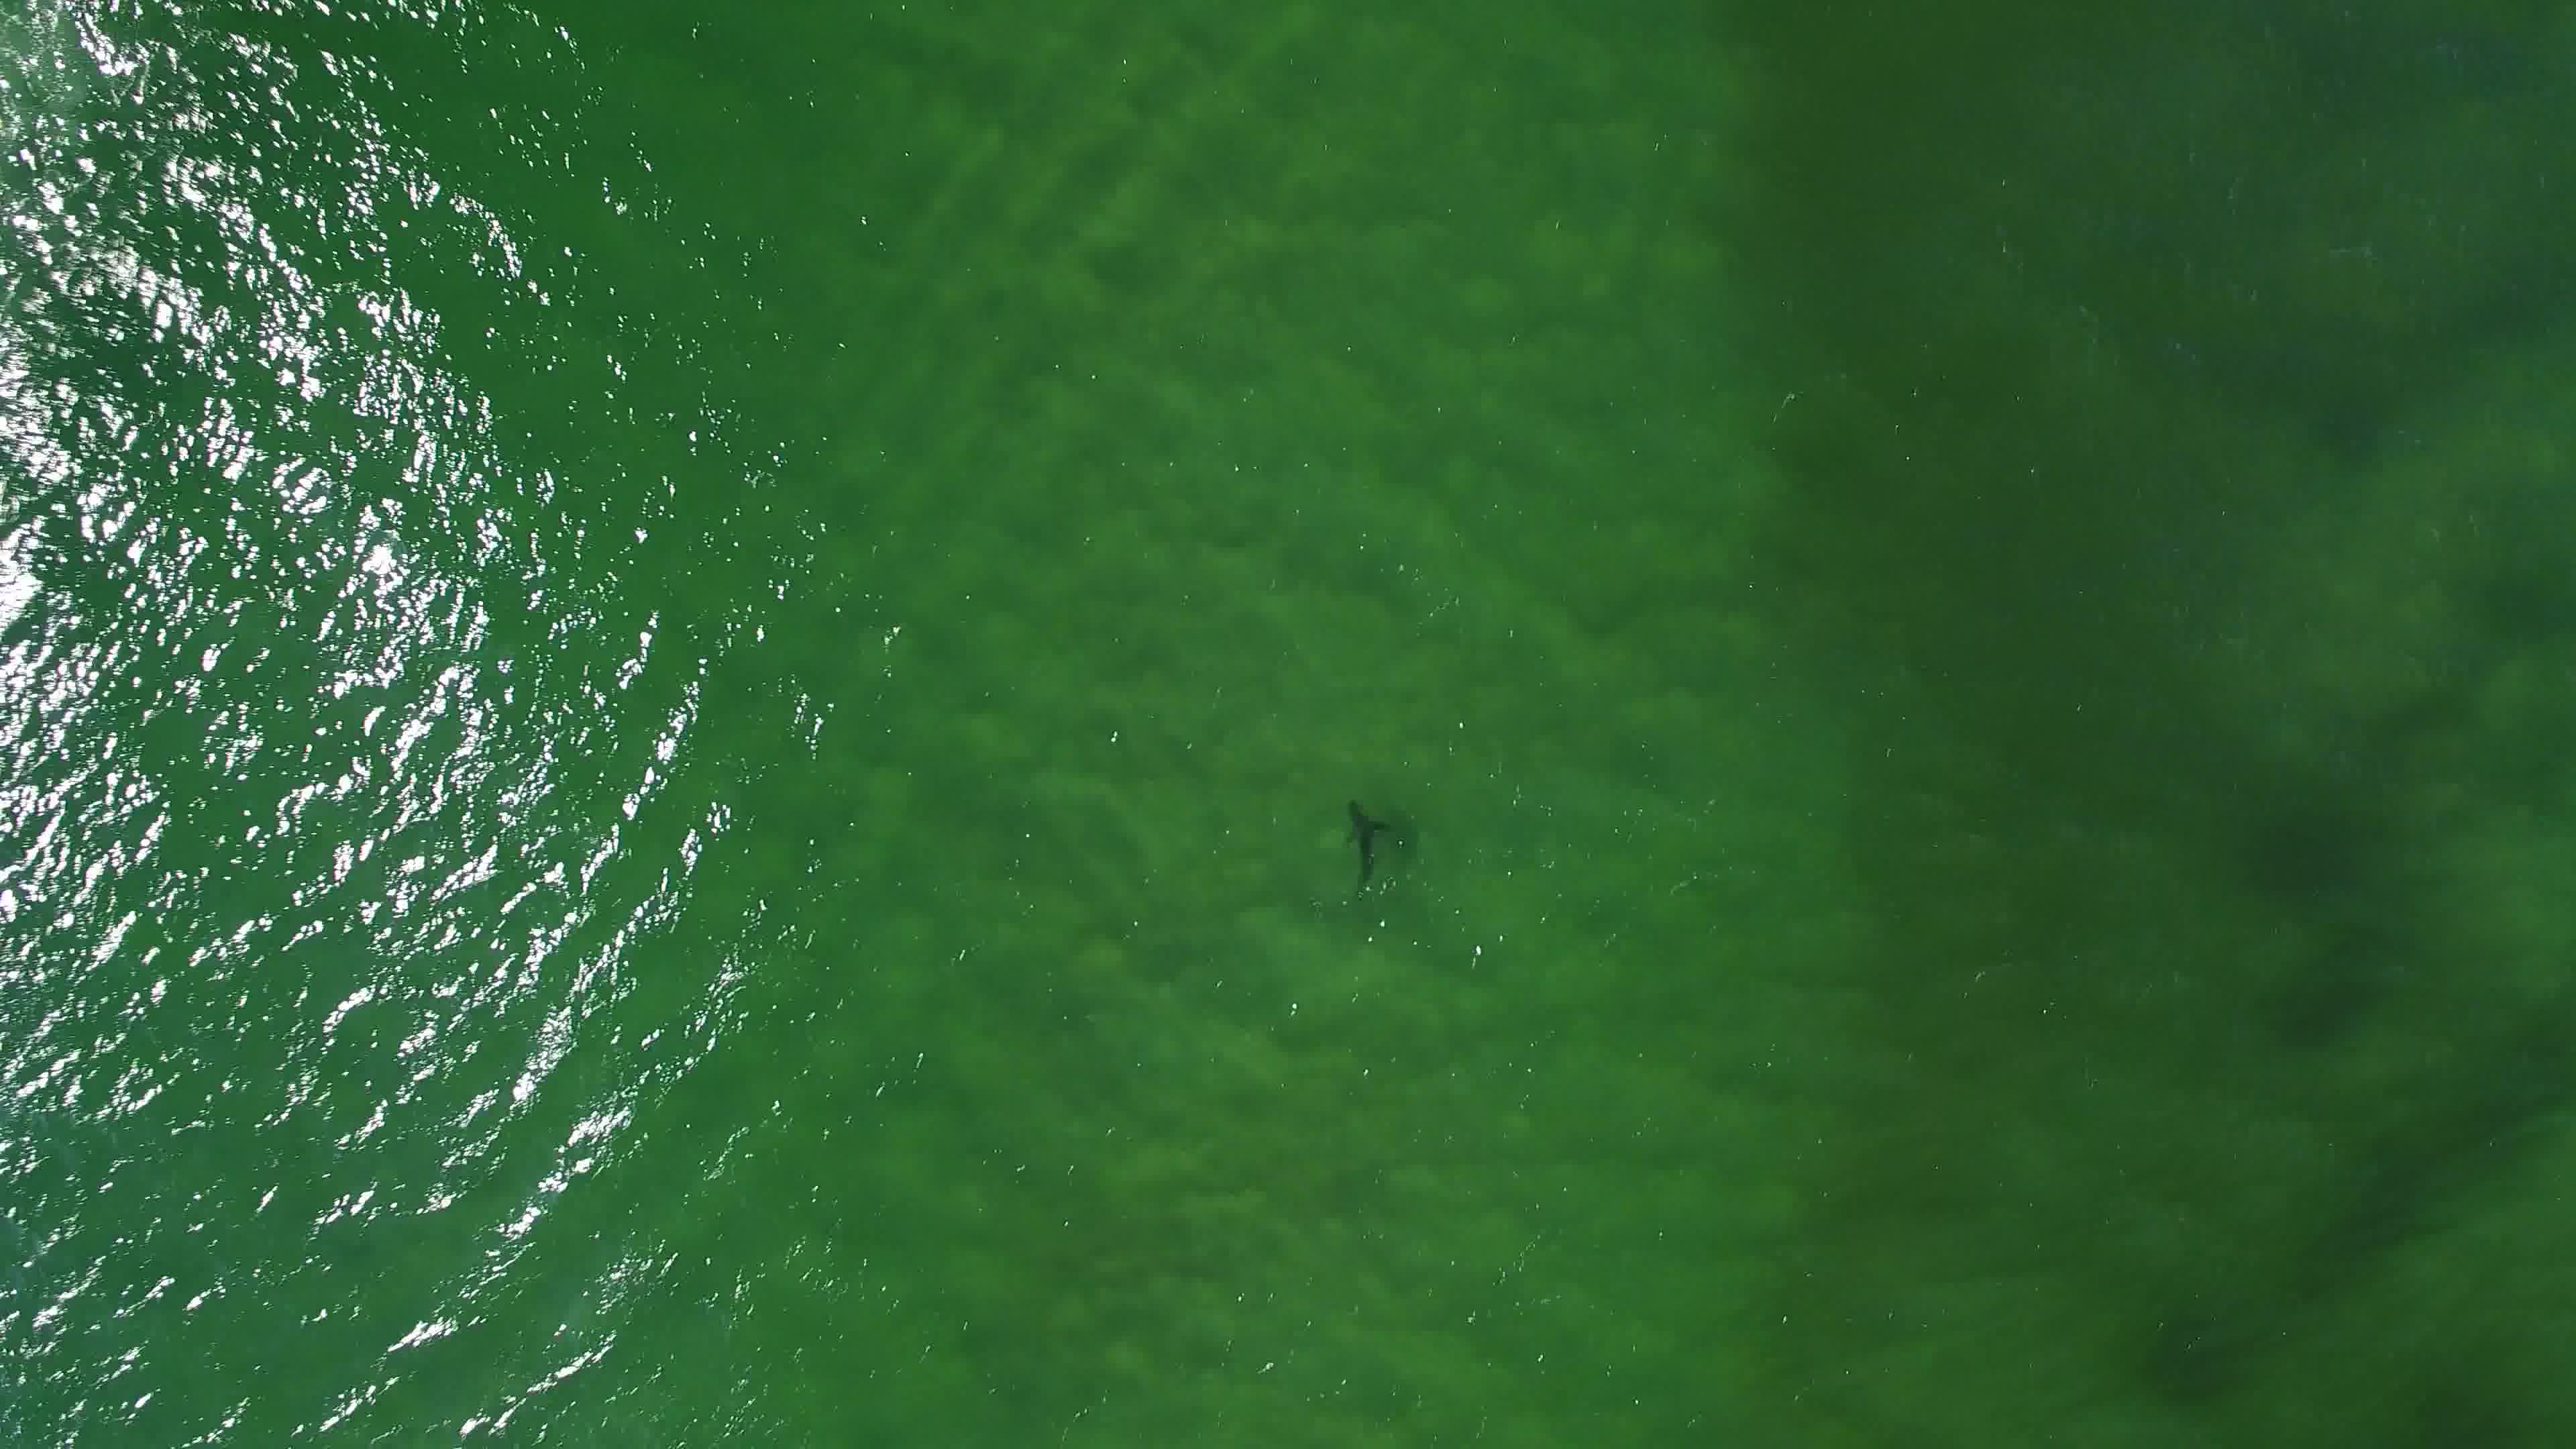shark: (1336, 796, 1398, 901)
